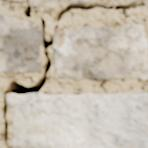brick: (7, 93, 147, 147), (54, 25, 147, 80), (0, 15, 40, 73)
broken_brick: (30, 0, 95, 7), (1, 0, 25, 1), (109, 0, 115, 3)
crack: (1, 0, 145, 147), (22, 0, 31, 17)
